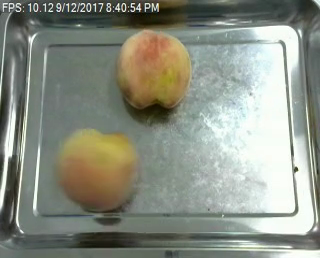Peach: (56, 129, 138, 211), (116, 27, 191, 111)
